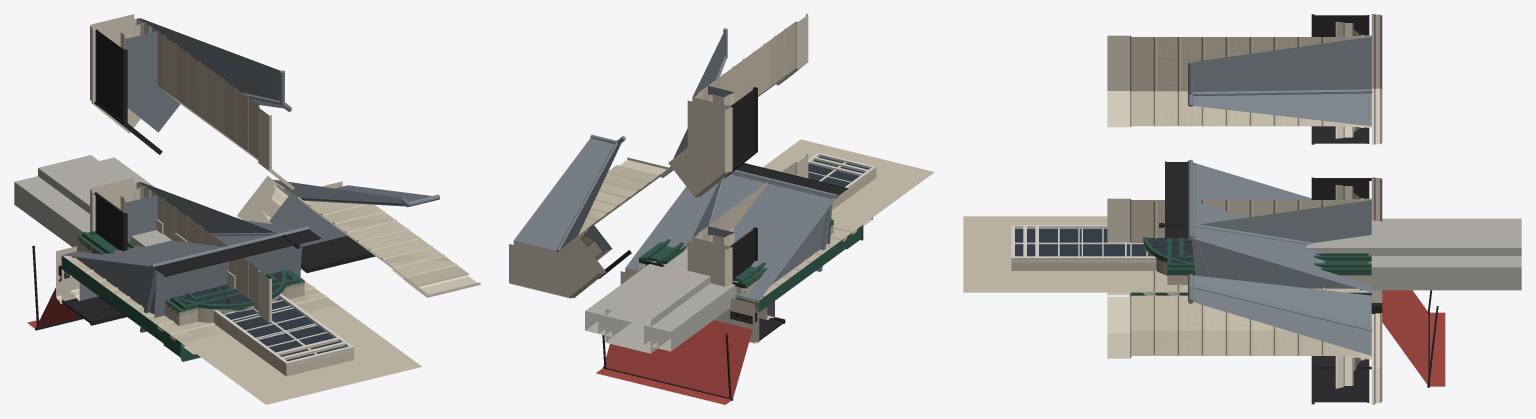
File: kit.glb
3 views of the same model, side by side, from view 1: azimuth 30°, elevation 25°; view 2: azimuth 150°, elevation 25°; view 3: azimuth 270°, elevation 25° (orthographic). The views are drawn at different scales.
Visible parts, largest first — view 1: NS_tall.window.001, G_pc.frame.001, NA_tall.window.001, balcony.pc.001, R_mansard_pc.frame.001, R_cornice_pc.frame.001, A_pc.frame.001, R_mansard.dormer_atelier.001, R_chimney.party.001, R_chimney.stack6.001, G_corner.pier.001, G_bay.shop_cafe.001 (+18 smaller); view 2: balcony.pc.001, awning.open.001, R_mansard_pc.frame.001, R_mansard.dormer_oeil.001, R_chimney.party.001, G_pc.frame.001, NS_tall.window.001, R_chimney.stack6.001, NA_tall.window.001, R_mansard.dormer_segment.001, balcony.corner.001, SS_tall.window.001 (+21 smaller); view 3: R_mansard_pc.frame.001, G_pc.frame.001, NA_tall.window.001, NS_tall.window.001, A_pc.frame.001, balcony.pc.001, R_chimney.stack6.001, R_chimney.party.001, R_mansard_corner.hip.001, N_pc.frame.001, awning.open.001, R_mansard.dormer_segment.001 (+13 smaller).
Boxes of the visible parts, box(x1,y1,x2,y2) form: NS_tall.window.001: box(72, 262, 421, 404); G_pc.frame.001: box(138, 18, 480, 297); NA_tall.window.001: box(69, 258, 408, 395); balcony.pc.001: box(90, 14, 375, 272); R_mansard_pc.frame.001: box(139, 18, 439, 207); R_cornice_pc.frame.001: box(120, 19, 347, 246); A_pc.frame.001: box(136, 18, 430, 257); R_mansard.dormer_atelier.001: box(62, 220, 309, 317); R_chimney.party.001: box(14, 157, 154, 247); R_chimney.stack6.001: box(38, 155, 171, 246); G_corner.pier.001: box(138, 182, 299, 322); G_bay.shop_cafe.001: box(65, 235, 336, 342); balcony.pc.001: box(509, 87, 757, 298); awning.open.001: box(596, 311, 757, 404); R_mansard_pc.frame.001: box(514, 28, 727, 251); R_mansard.dormer_oeil.001: box(626, 173, 835, 299); R_chimney.party.001: box(585, 261, 738, 351); G_pc.frame.001: box(515, 14, 808, 251); NS_tall.window.001: box(768, 139, 934, 293); R_chimney.stack6.001: box(605, 249, 710, 353); NA_tall.window.001: box(763, 147, 923, 294); R_mansard.dormer_segment.001: box(628, 174, 834, 298); balcony.corner.001: box(687, 227, 757, 322); SS_tall.window.001: box(764, 147, 922, 293); R_mansard_pc.frame.001: box(1188, 37, 1372, 355); G_pc.frame.001: box(1107, 35, 1371, 358); NA_tall.window.001: box(987, 216, 1359, 295); NS_tall.window.001: box(963, 216, 1357, 292); A_pc.frame.001: box(1203, 35, 1371, 359); balcony.pc.001: box(1311, 14, 1382, 404); R_chimney.stack6.001: box(1306, 222, 1521, 255); R_chimney.party.001: box(1371, 218, 1521, 290); R_mansard_corner.hip.001: box(1192, 200, 1371, 253); N_pc.frame.001: box(1155, 37, 1359, 355); awning.open.001: box(1371, 290, 1445, 387); R_mansard.dormer_segment.001: box(1193, 163, 1371, 291).
Bounding box in the file's own units: 5.5 × 5.77 × 9.3.
